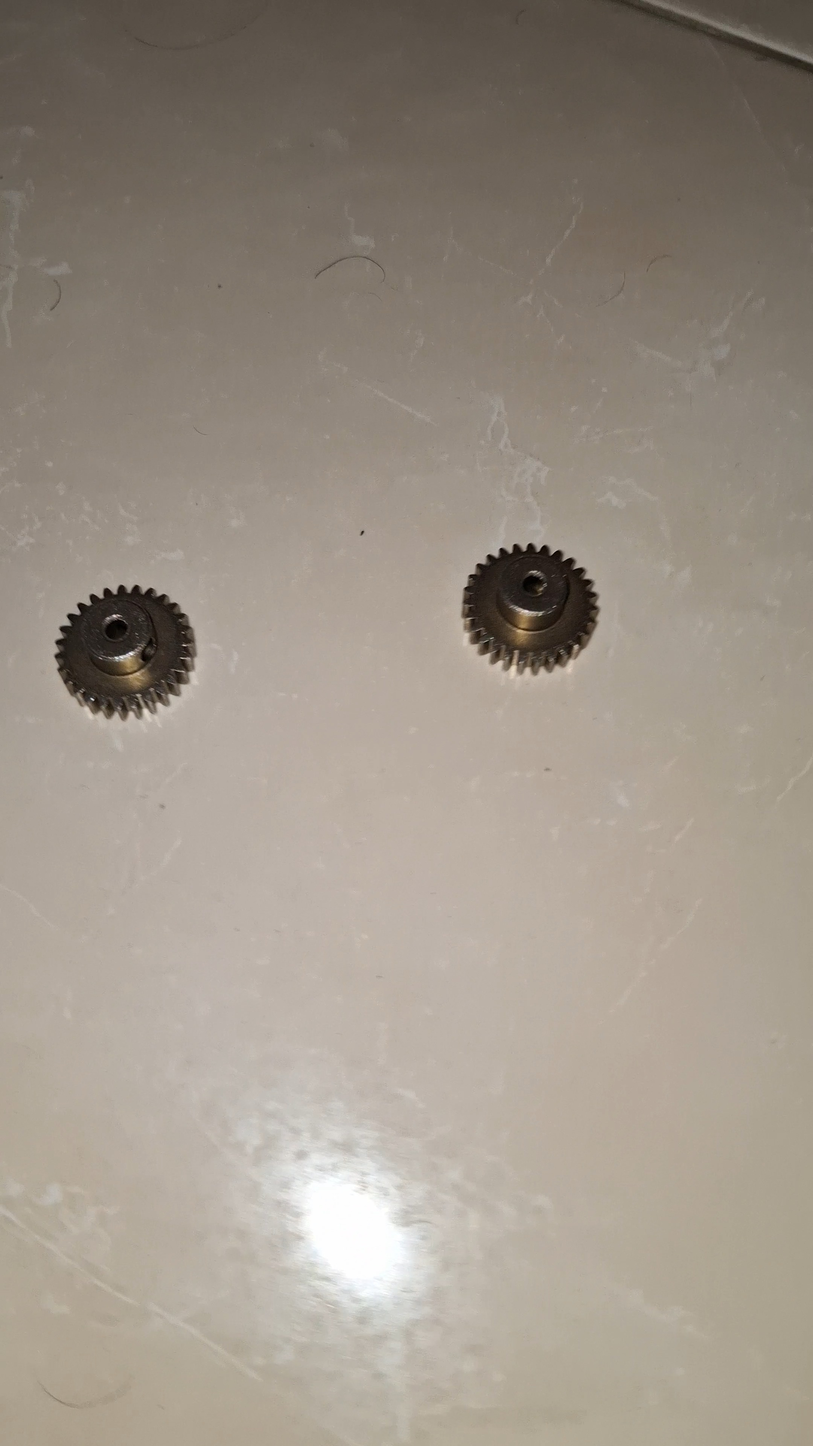spur gear: (46, 574, 181, 700), (445, 554, 577, 679)
